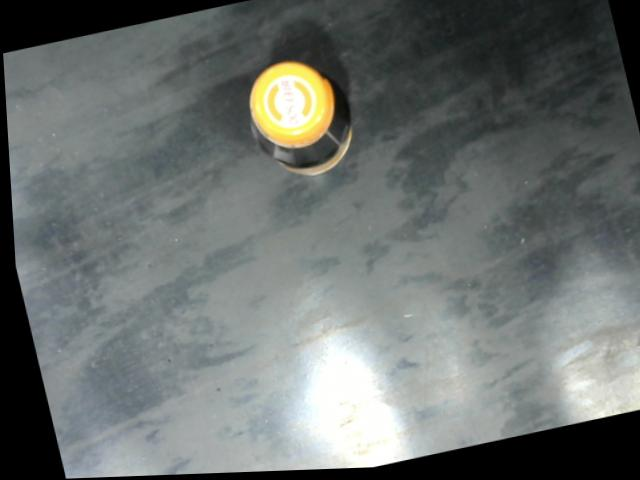glass: (236, 51, 363, 190)
